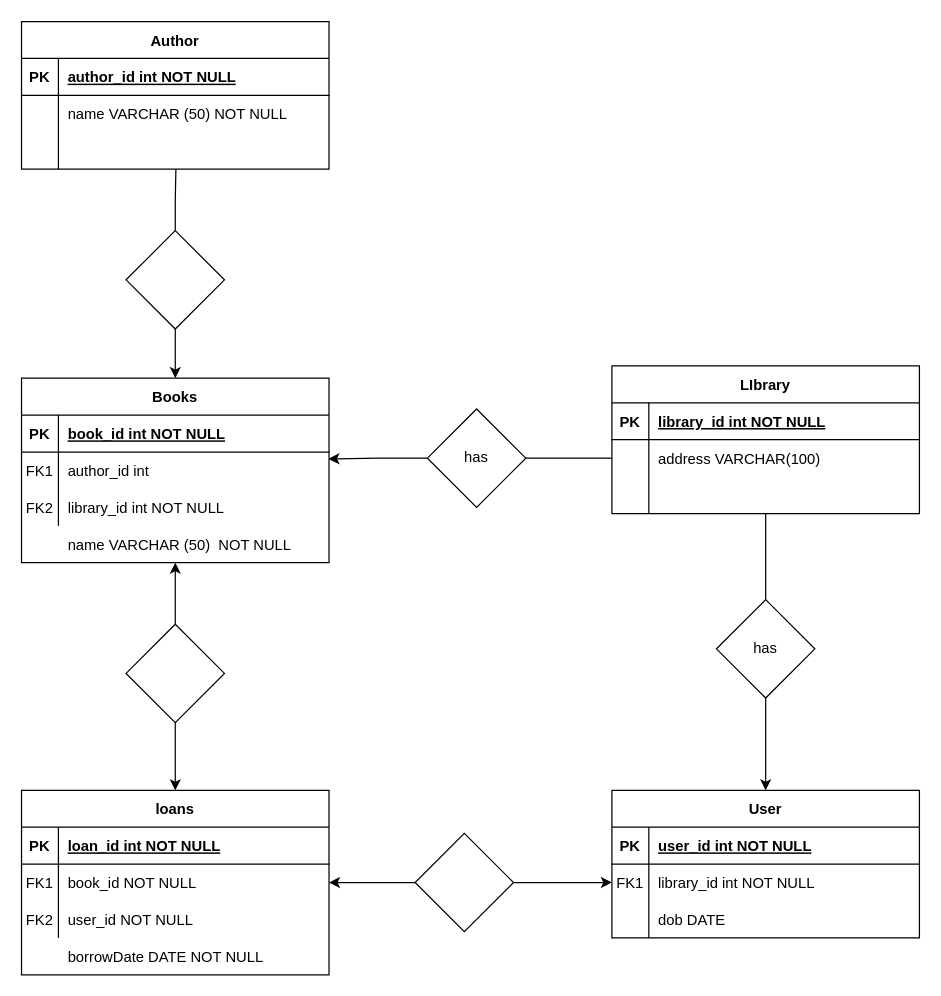
Image size: 941x996. Some labels were removed from this diagram. Each missing label, with the centre of its shape:
"give" goes at (174,673).
"make" goes at (464,882).
"write" goes at (174,279).
